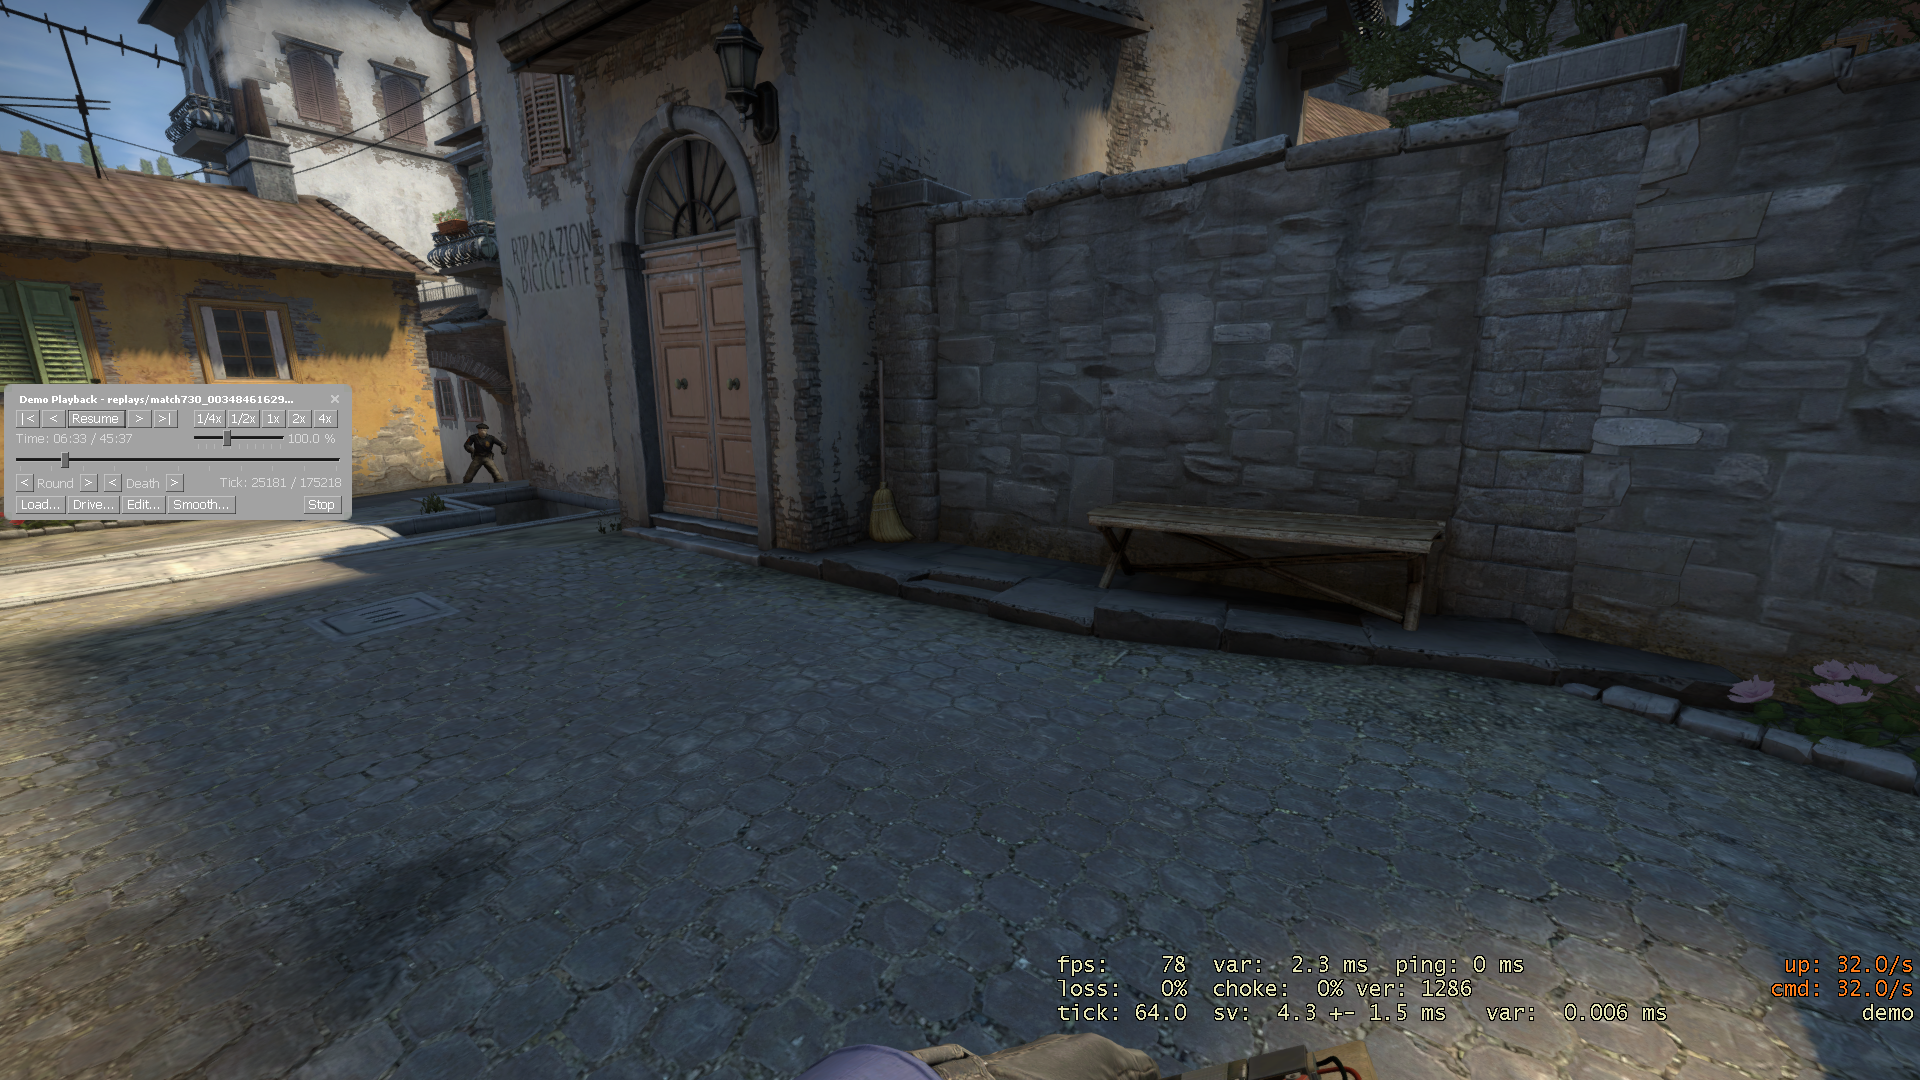t: (463, 423, 506, 487)
